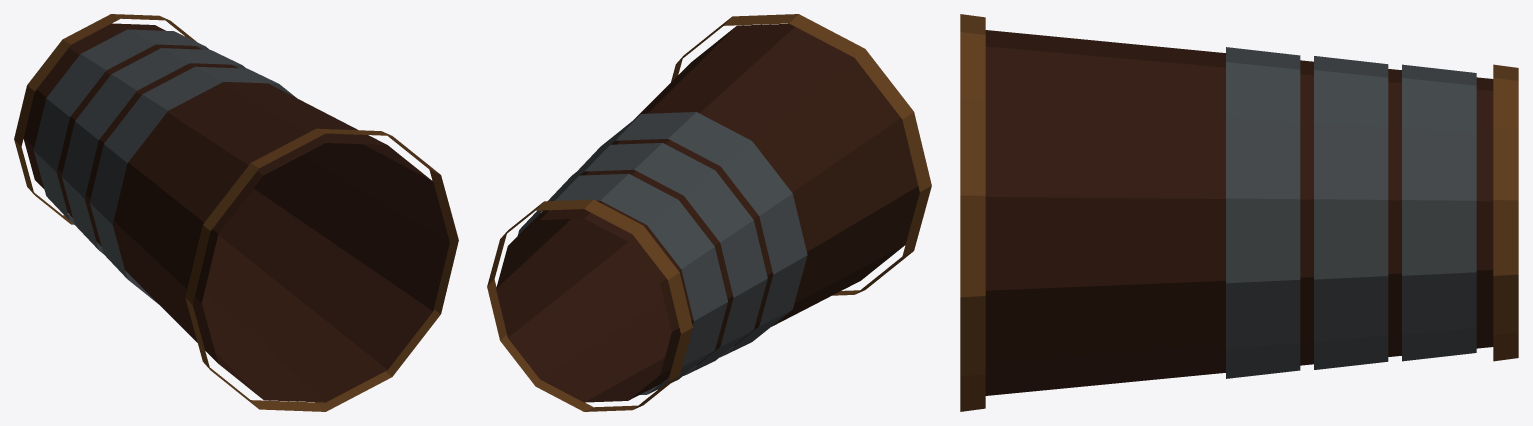
Rendered from bracer_LOD1.obj.
3 views of the same model, side by side, from view 1: azimuth 30°, elevation 25°; view 2: azimuth 150°, elevation 25°; view 3: azimuth 270°, elevation 25° (orthographic). The views are drawn at different scales.
Visible parts, largest first — view 1: RatiborBracer; view 2: RatiborBracer; view 3: RatiborBracer.
Part boxes in pixels (box(x1,y1,x2,y2)): RatiborBracer: box(14, 14, 458, 411); RatiborBracer: box(487, 14, 931, 411); RatiborBracer: box(960, 14, 1518, 411).
Bounding box in the file's own units: 0.236 × 0.236 × 0.33.
